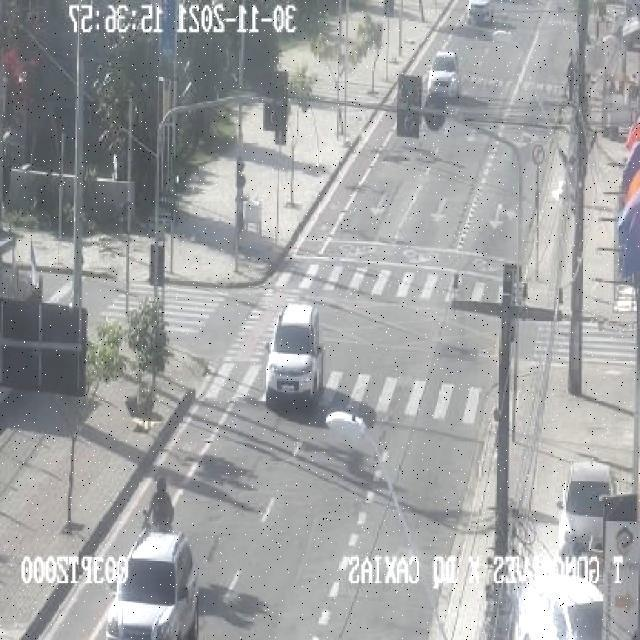Car: (105, 528, 198, 640), (266, 294, 335, 416), (515, 576, 615, 640), (559, 462, 616, 556), (427, 50, 459, 99), (467, 0, 493, 27)
Cycle: (146, 467, 182, 538)
